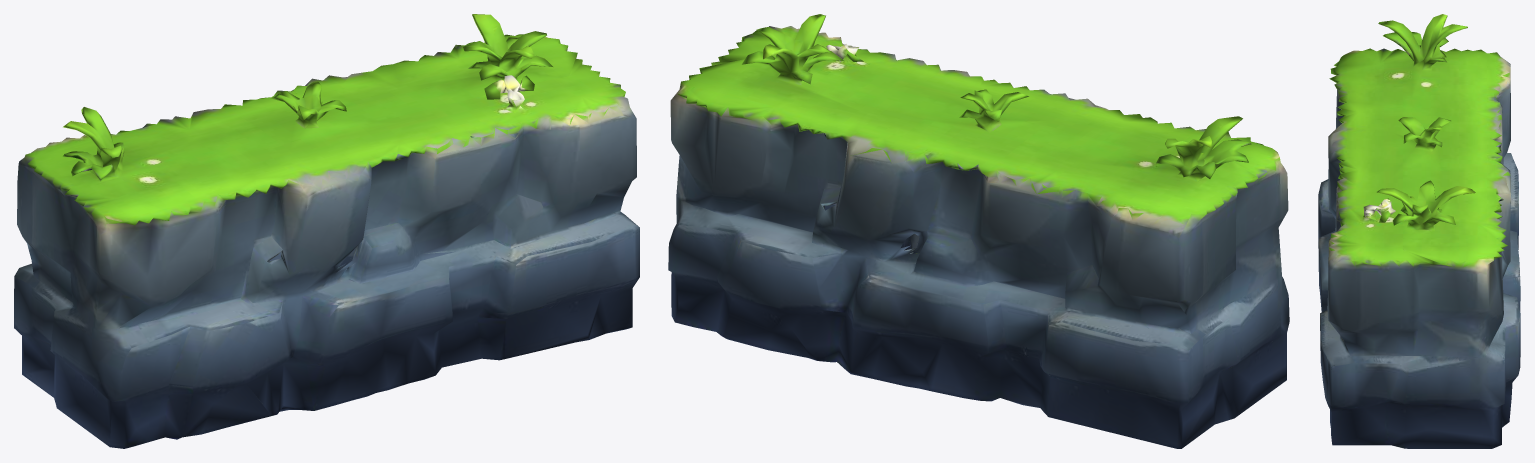
File: cliff_piece-Bi487RuV.glb
3 renders of one model, left to right at view 1: azimuth 30°, elevation 25°; view 2: azimuth 150°, elevation 25°; view 3: azimuth 270°, elevation 25°, orthographic. The views are drawn at different scales.
Parts seen in each view (by area): view 1: cliff_piece; view 2: cliff_piece; view 3: cliff_piece.
Part boxes in pixels (left/top/right/bottom): cliff_piece: left=14, top=14, right=639, bottom=448; cliff_piece: left=668, top=14, right=1289, bottom=448; cliff_piece: left=1318, top=14, right=1520, bottom=448.
Bounding box in the file's own units: 9.05 × 4.5 × 3.57.
Materials: 1 (1 with a texture image).
